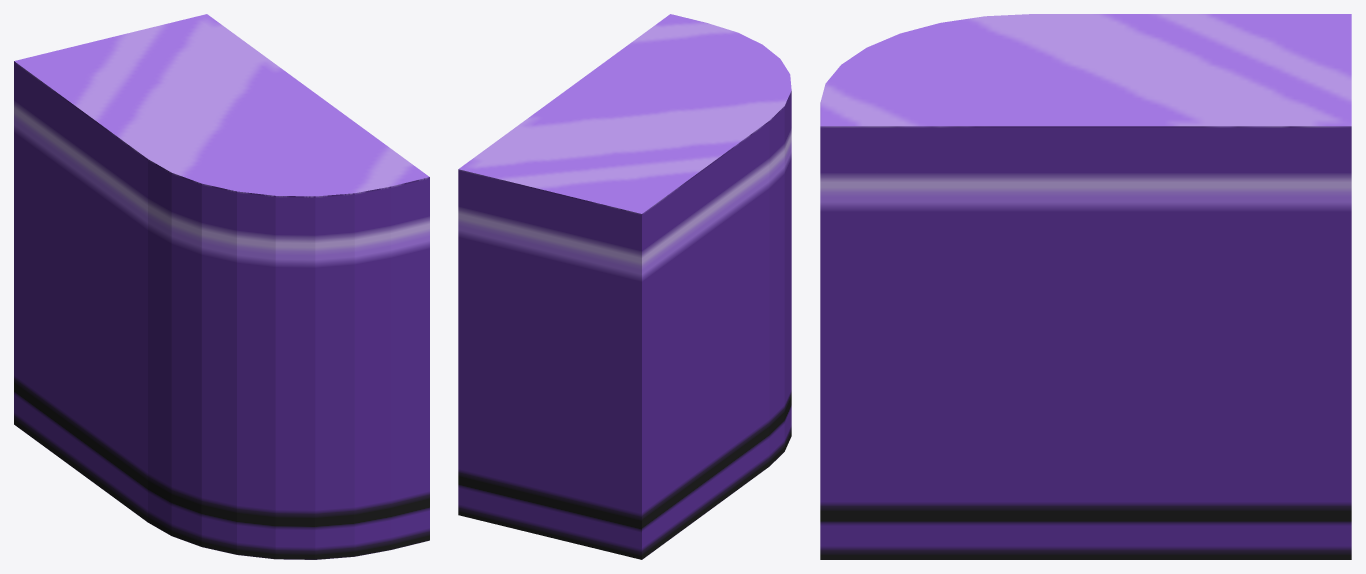
Rendered from mallelixirupdate2023counter03.fbx.
The picture shows the model from 3 angles, left to right: view 1: azimuth 30°, elevation 25°; view 2: azimuth 150°, elevation 25°; view 3: azimuth 270°, elevation 25°; orthographic projection. The views are drawn at different scales.
Parts seen in each view (by area): view 1: base_cube.007; view 2: base_cube.007; view 3: base_cube.007.
Boxes of the visible parts, box(x1,y1,x2,y2) form: base_cube.007: box(14, 14, 429, 559); base_cube.007: box(458, 14, 791, 559); base_cube.007: box(820, 14, 1351, 559).
Bounding box in the file's own units: 1 × 0.5 × 0.9.
